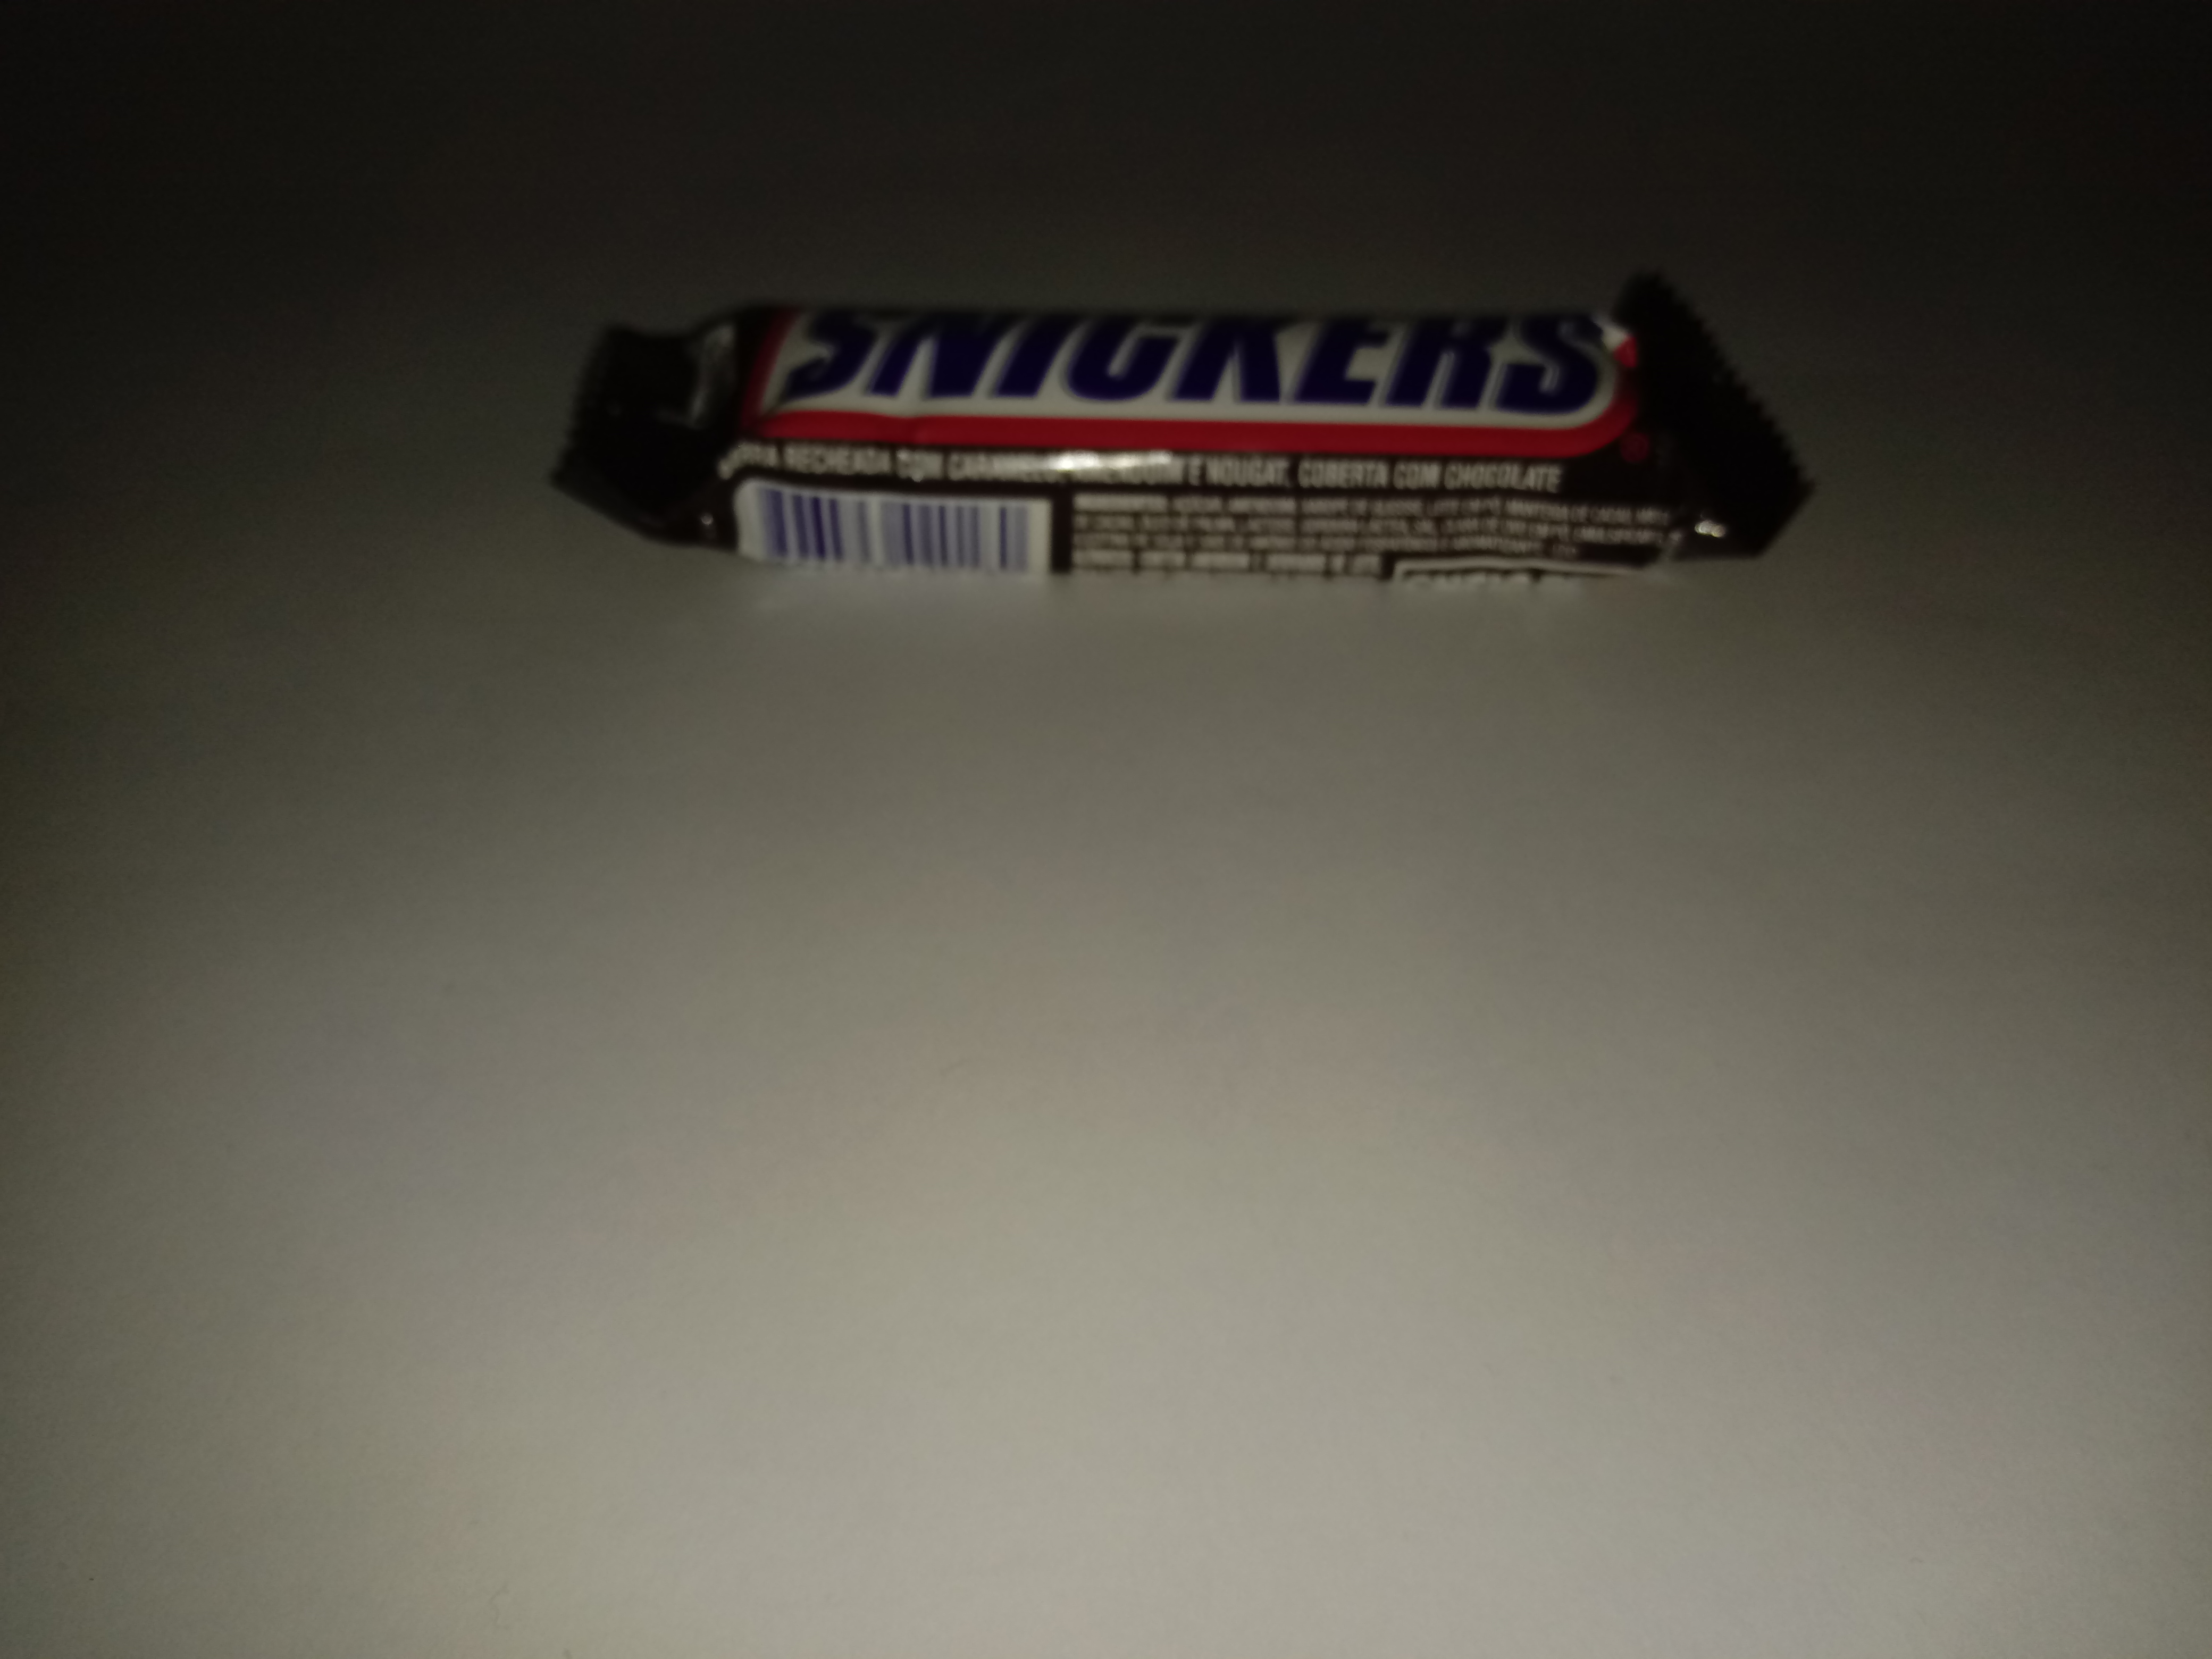snickers: (535, 260, 1832, 596)
